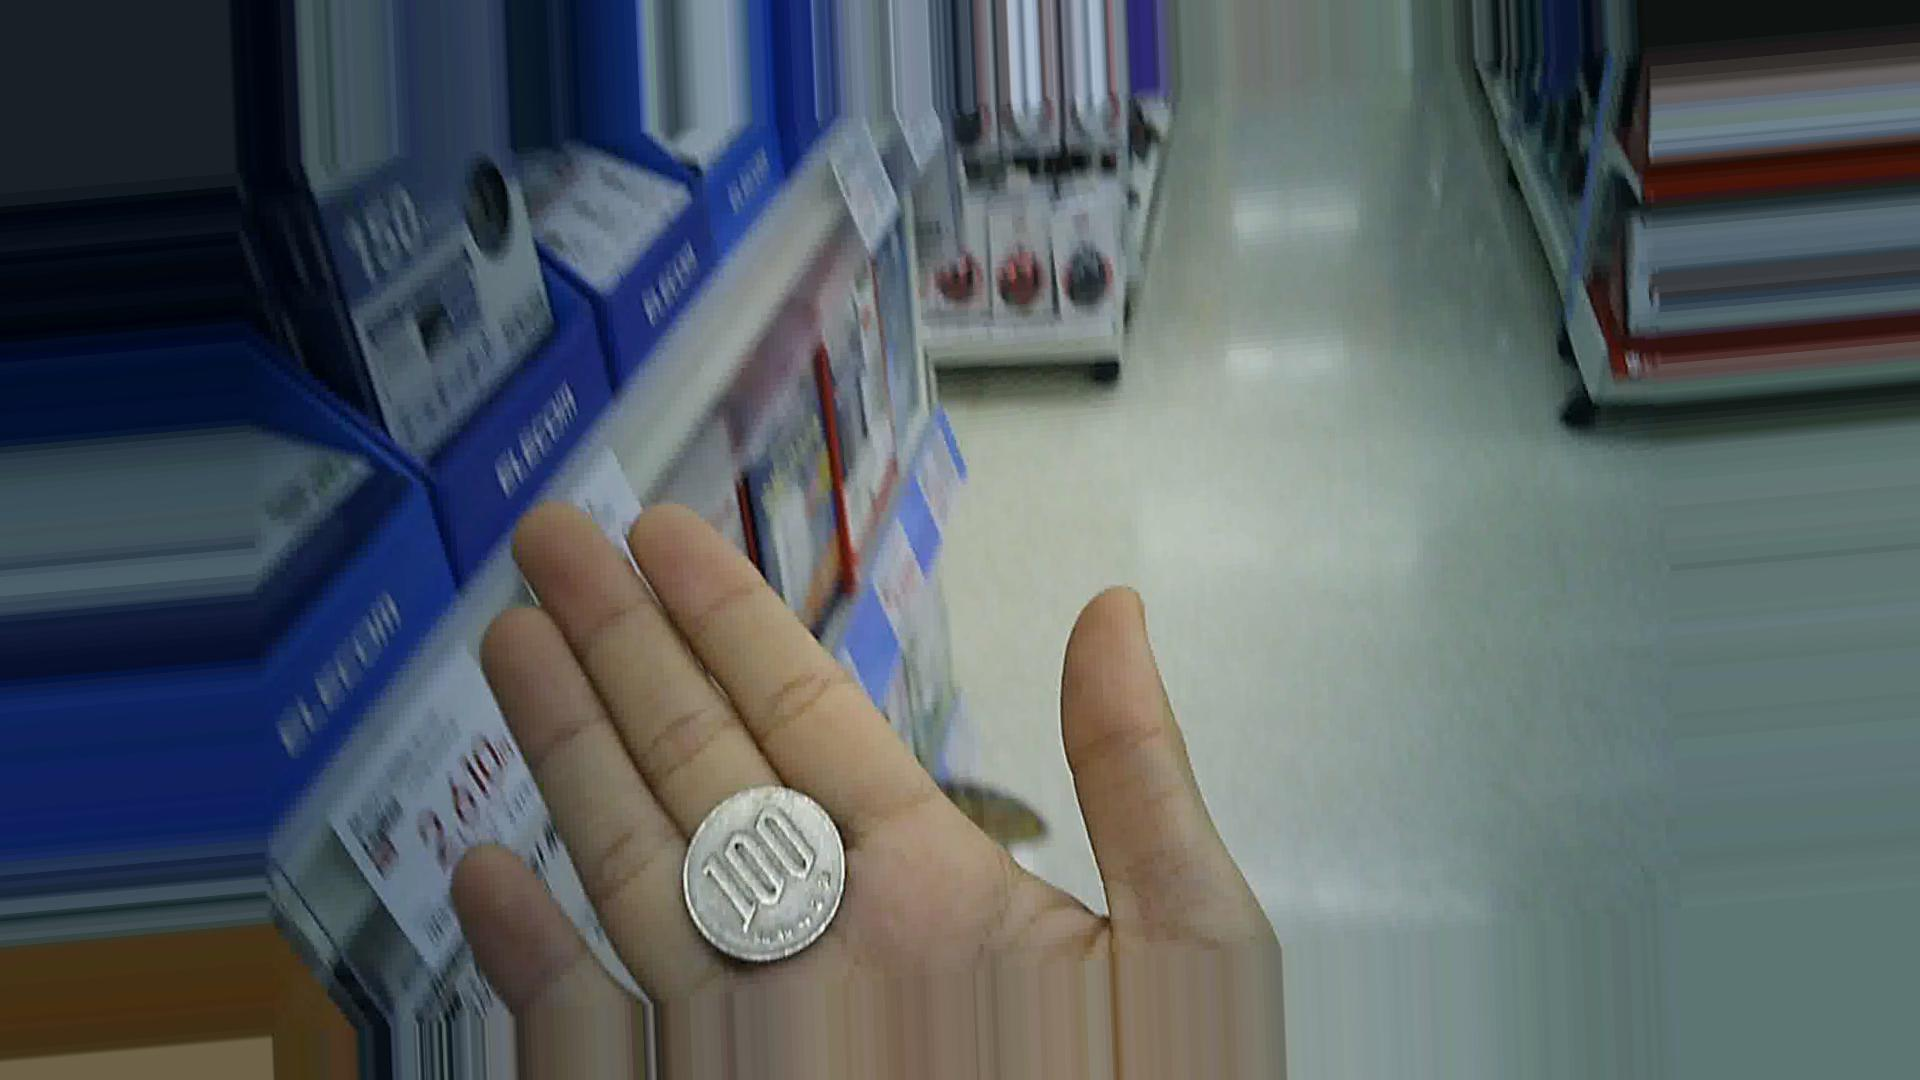100 Yen: (674, 786, 856, 961)
